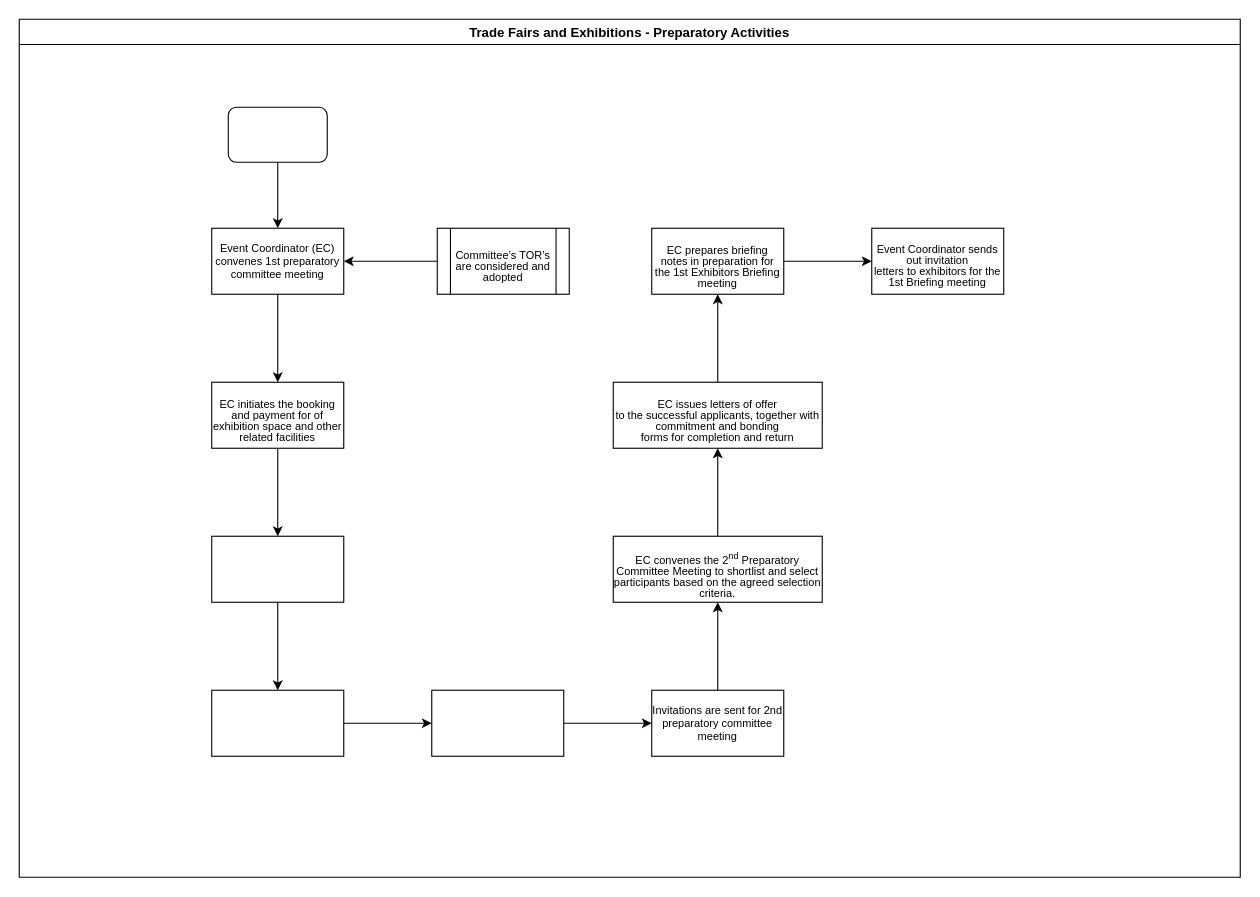
This 1260x897 diagram has some shape labels left out. The box of each missing label's shape, as (x1, y1, x2, y2) in pixels:
After the deadline, the EC analyses applications from potential participants: (431, 689, 564, 756)
Applications from potential participants are received: (211, 689, 344, 756)
EC initiates the recruitment of exhibitors within given deadlines: (211, 535, 344, 602)
Start: (227, 106, 327, 162)
